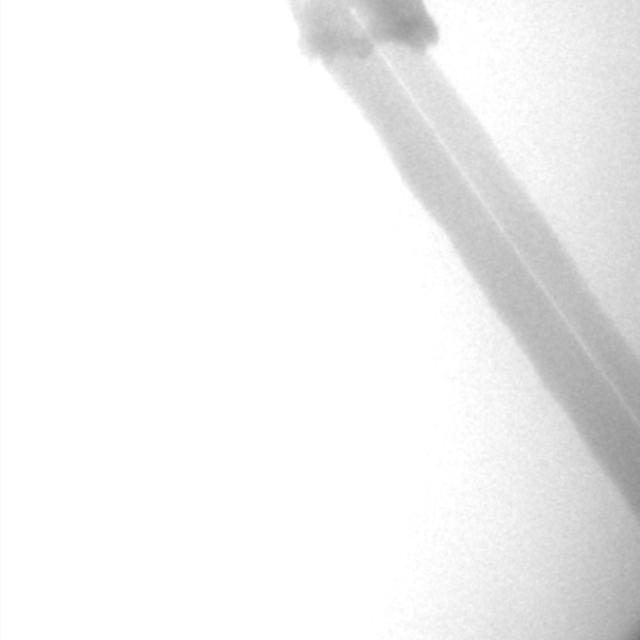broken arc: (350, 4, 636, 417)
